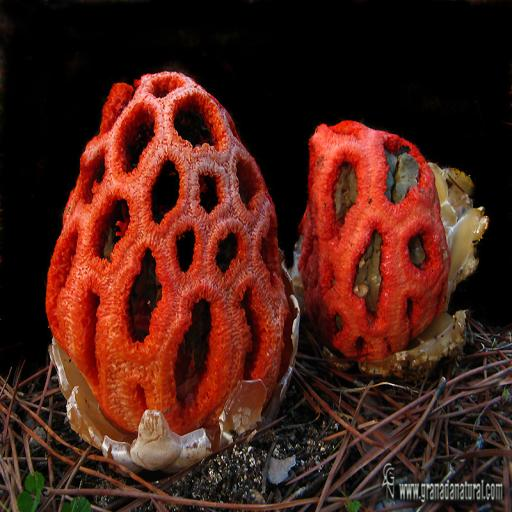Red Cage Fungus: (42, 61, 309, 473), (295, 109, 495, 383)
